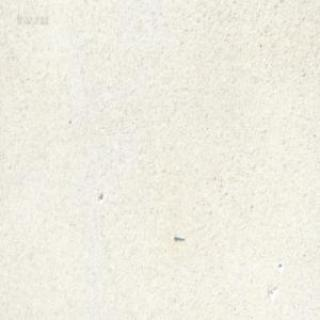Nailtrack_idkeyframe: (173, 233, 184, 241)
